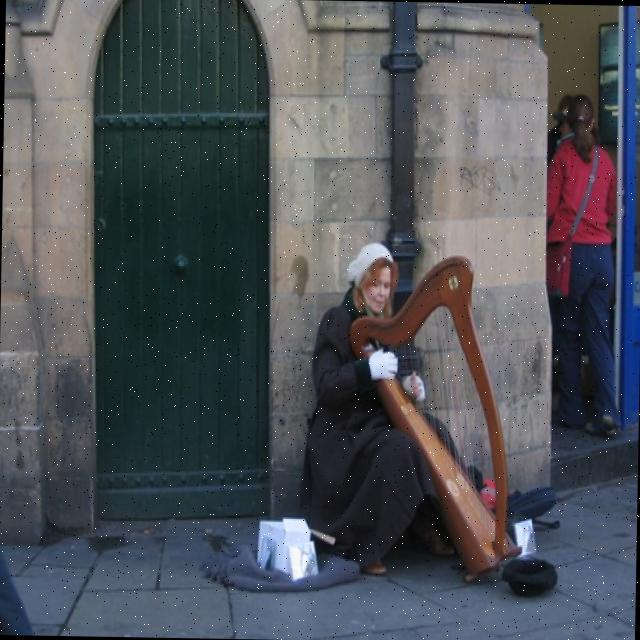harp: (342, 250, 530, 584)
